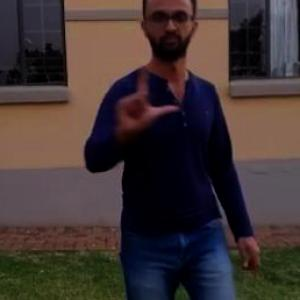land_hand: (108, 58, 185, 141)
